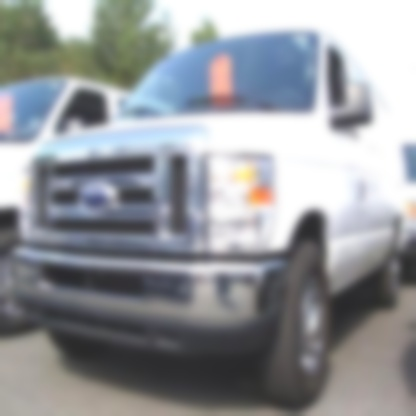Vehicle: (12, 26, 414, 413)
